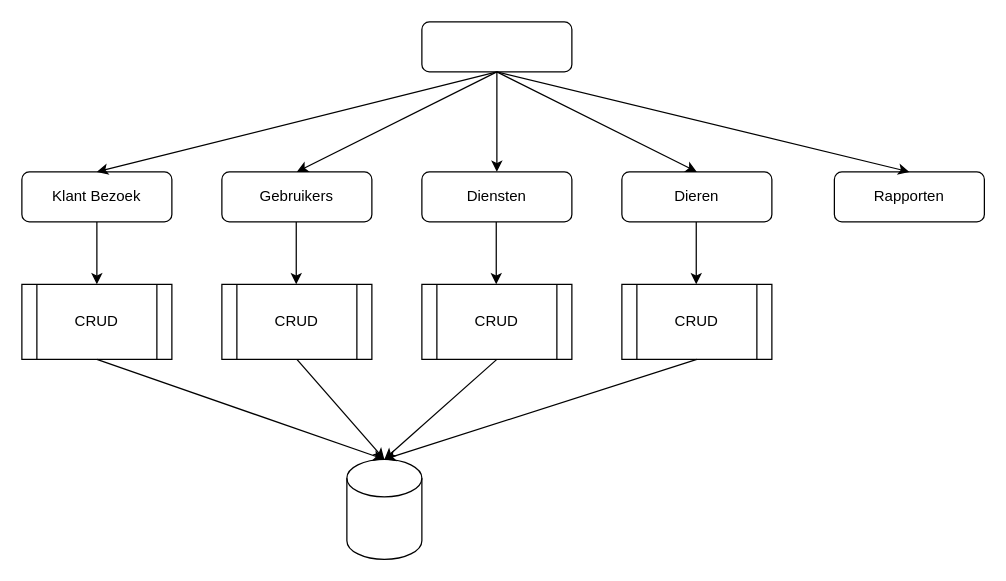
This 1006x581 diagram has some shape labels left out. Each missing label, with the centre of its shape:
Database: point (384, 508)
Home Page: point (496, 46)
